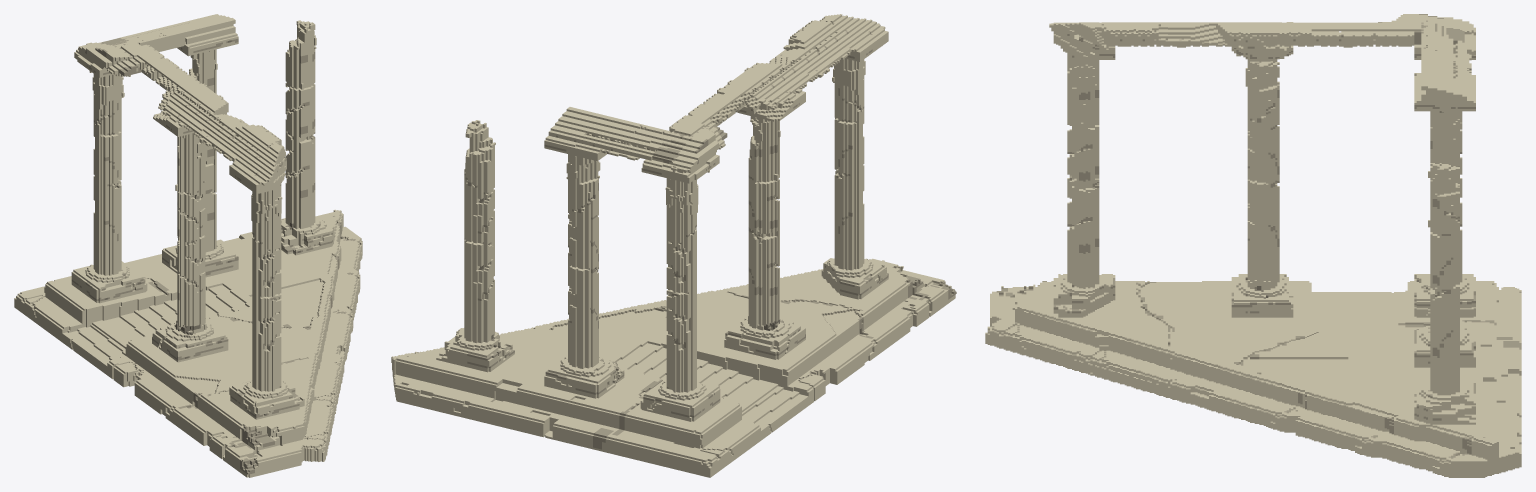
3 views of the same model, side by side, from view 1: azimuth 30°, elevation 25°; view 2: azimuth 150°, elevation 25°; view 3: azimuth 270°, elevation 25° (orthographic). The views are drawn at different scales.
Visible parts, largest first — view 1: VOX; view 2: VOX; view 3: VOX.
Boxes of the visible parts, box(x1,y1,x2,y2) form: VOX: box(14, 14, 362, 477); VOX: box(391, 14, 956, 477); VOX: box(985, 14, 1521, 477).
Size of the model in its own units: 0.182 by 0.154 by 0.235.
